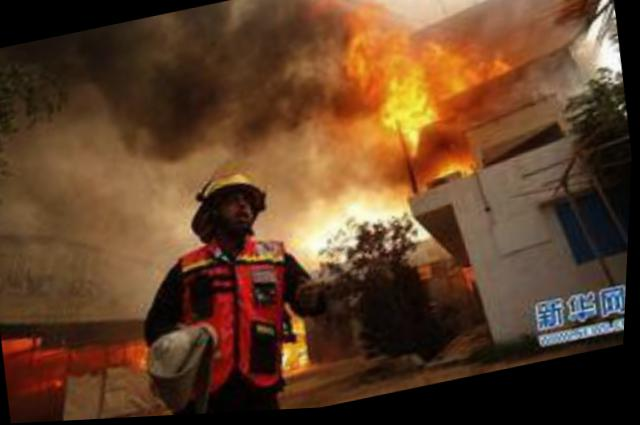fire: (360, 30, 439, 161), (7, 337, 105, 388), (416, 32, 474, 105), (425, 152, 475, 179), (103, 339, 147, 369), (466, 51, 507, 83), (282, 339, 315, 373), (4, 332, 36, 353), (289, 311, 308, 342)
